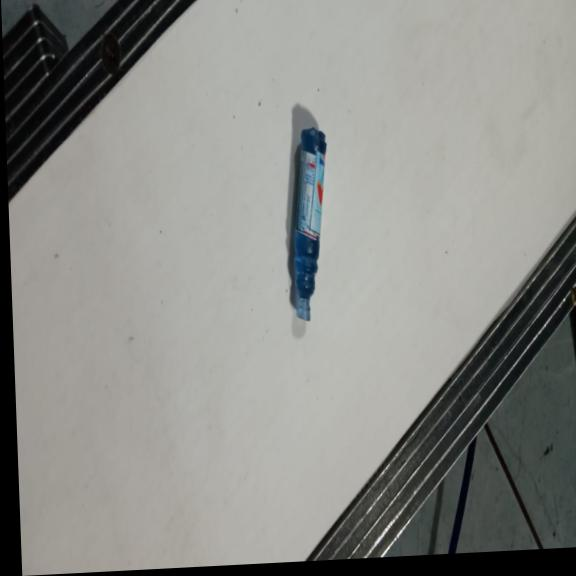Plastik: (287, 126, 333, 324)
